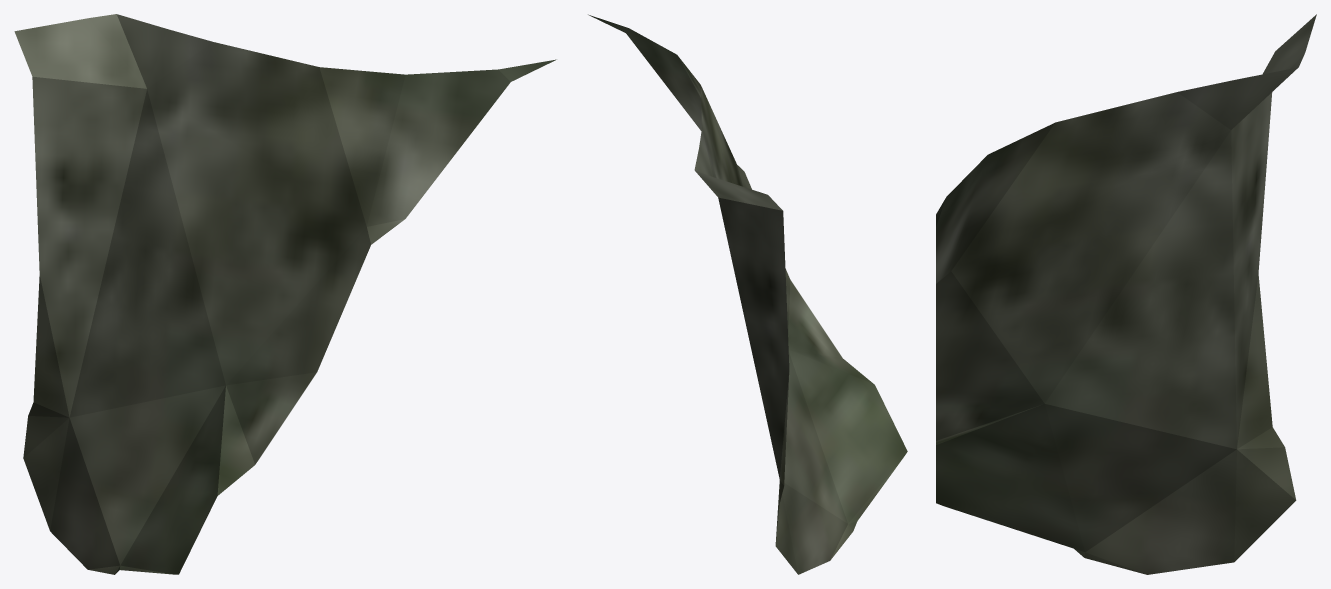
The picture shows the model from 3 angles, left to right: view 1: azimuth 30°, elevation 25°; view 2: azimuth 150°, elevation 25°; view 3: azimuth 270°, elevation 25°; orthographic projection. The views are drawn at different scales.
Bounding box in the file's own units: 0.6219 × 0.761 × 0.4683.
Materials: 1 (1 with a texture image).
